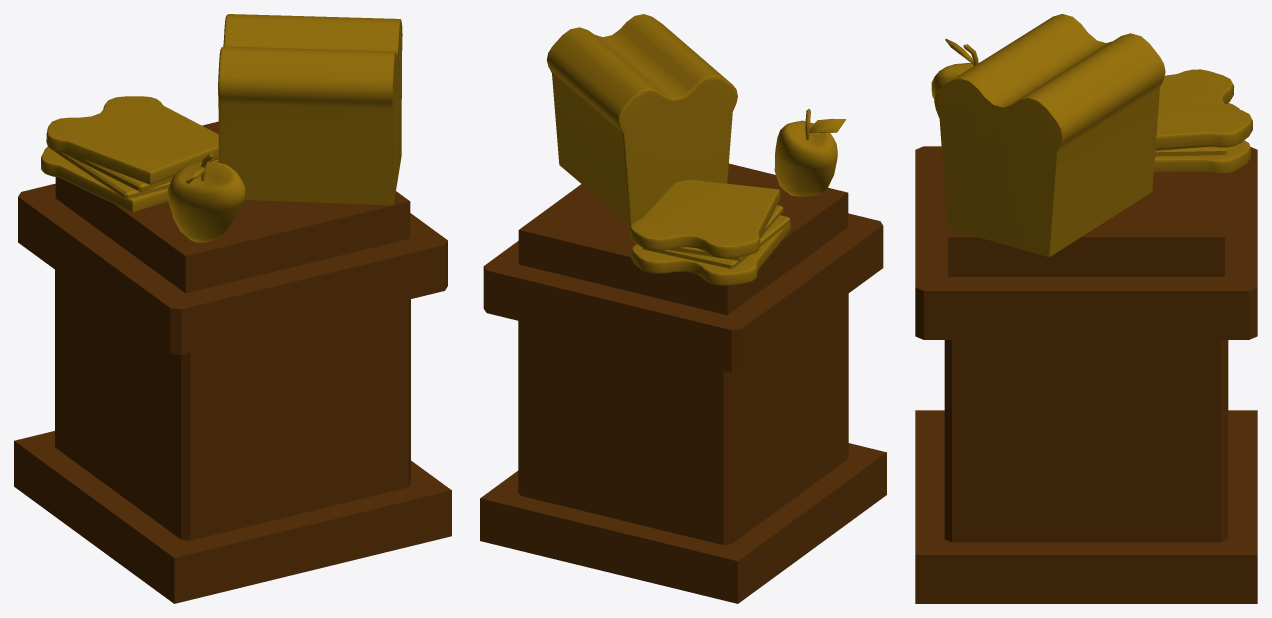
The model's file is Weight_Food_final_Vanessa_01.fbx.
3 views of the same model, side by side, from view 1: azimuth 30°, elevation 25°; view 2: azimuth 150°, elevation 25°; view 3: azimuth 270°, elevation 25° (orthographic). The views are drawn at different scales.
Parts seen in each view (by area): view 1: mesh_Food_Base_Rest, mesh_Food_Base_Name, pCube28, pCube59, pSphere7, pCube33, pCube31, pCube60; view 2: mesh_Food_Base_Rest, mesh_Food_Base_Name, pCube28, pCube59, pSphere7, pCube33, pCube31; view 3: mesh_Food_Base_Rest, mesh_Food_Base_Name, pCube28, pCube59, pCube33, pSphere7, pCube31.
Part boxes in pixels (box(x1,y1,x2,y2)): mesh_Food_Base_Rest: box(14, 121, 451, 603); mesh_Food_Base_Name: box(55, 270, 410, 540); pCube28: box(218, 14, 402, 205); pCube59: box(46, 96, 218, 184); pSphere7: box(167, 162, 245, 242); pCube33: box(41, 146, 168, 212); pCube31: box(54, 151, 170, 199); pCube60: box(62, 152, 218, 192); mesh_Food_Base_Rest: box(480, 163, 886, 603); mesh_Food_Base_Name: box(518, 293, 848, 545); pCube28: box(546, 14, 737, 225); pCube59: box(630, 179, 780, 258); pSphere7: box(774, 120, 837, 196); pCube33: box(631, 221, 790, 285); pCube31: box(642, 215, 789, 268); mesh_Food_Base_Rest: box(915, 146, 1257, 603); mesh_Food_Base_Name: box(944, 340, 1228, 542); pCube28: box(934, 14, 1165, 257); pCube59: box(1155, 69, 1252, 149); pCube33: box(1153, 103, 1250, 173); pSphere7: box(931, 62, 978, 99); pCube31: box(1155, 146, 1226, 156).
Size of the model in its own units: 6.98 by 10.65 by 6.52.
